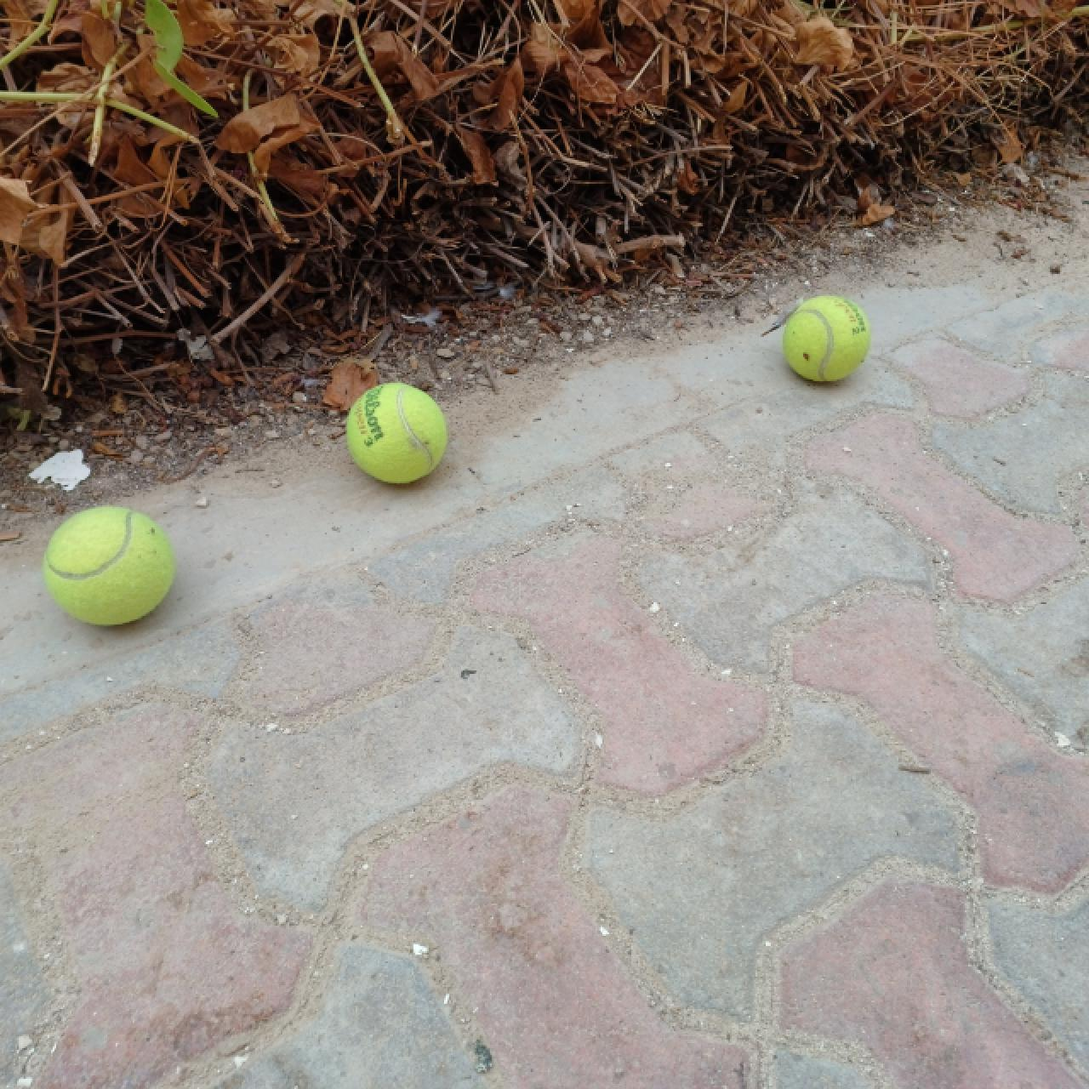tennis-ball: (45, 503, 175, 628), (342, 379, 450, 489), (781, 291, 873, 385)
